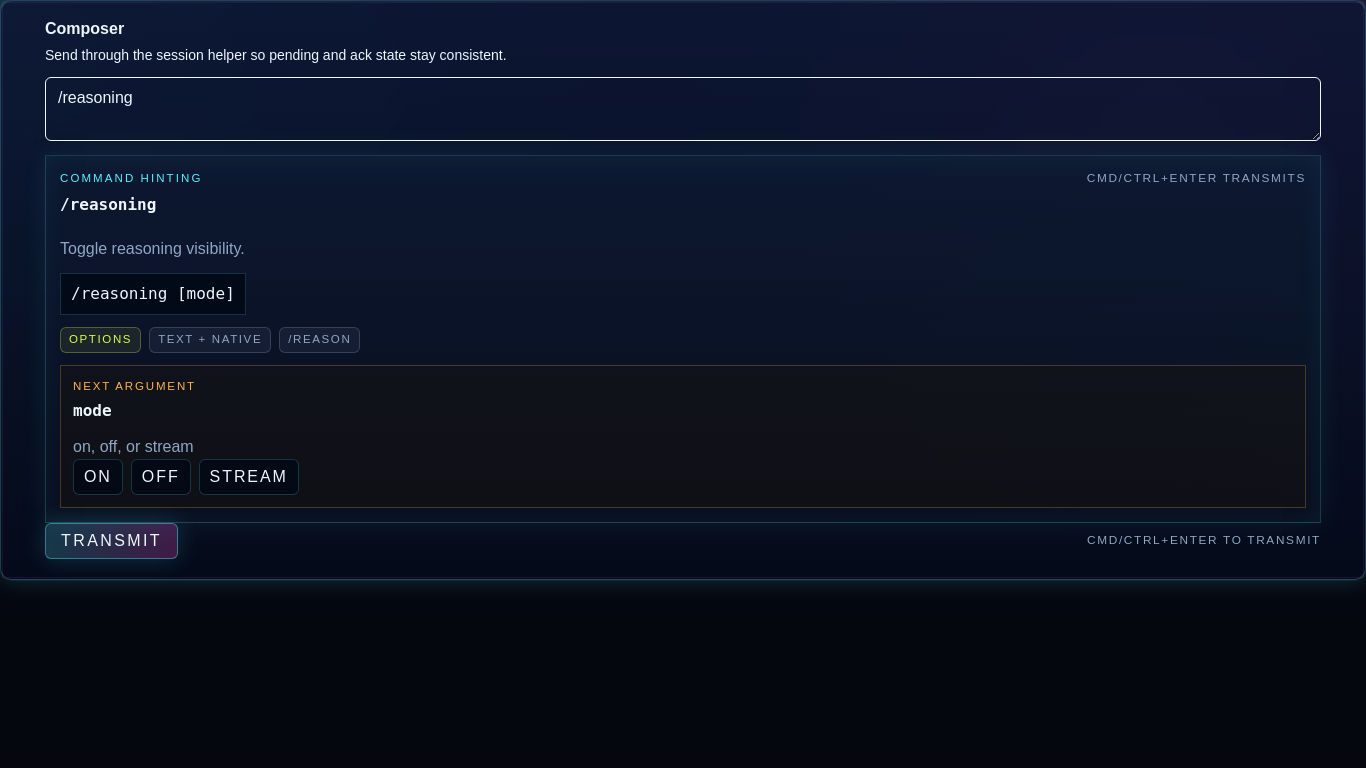
web demo components › shows argument hints and applies choice chips
Check: the text "Next argument" is shown, box [73,380,196,392]
Step 1. Click the button "stream" → [249, 477], box [199,459,299,495]
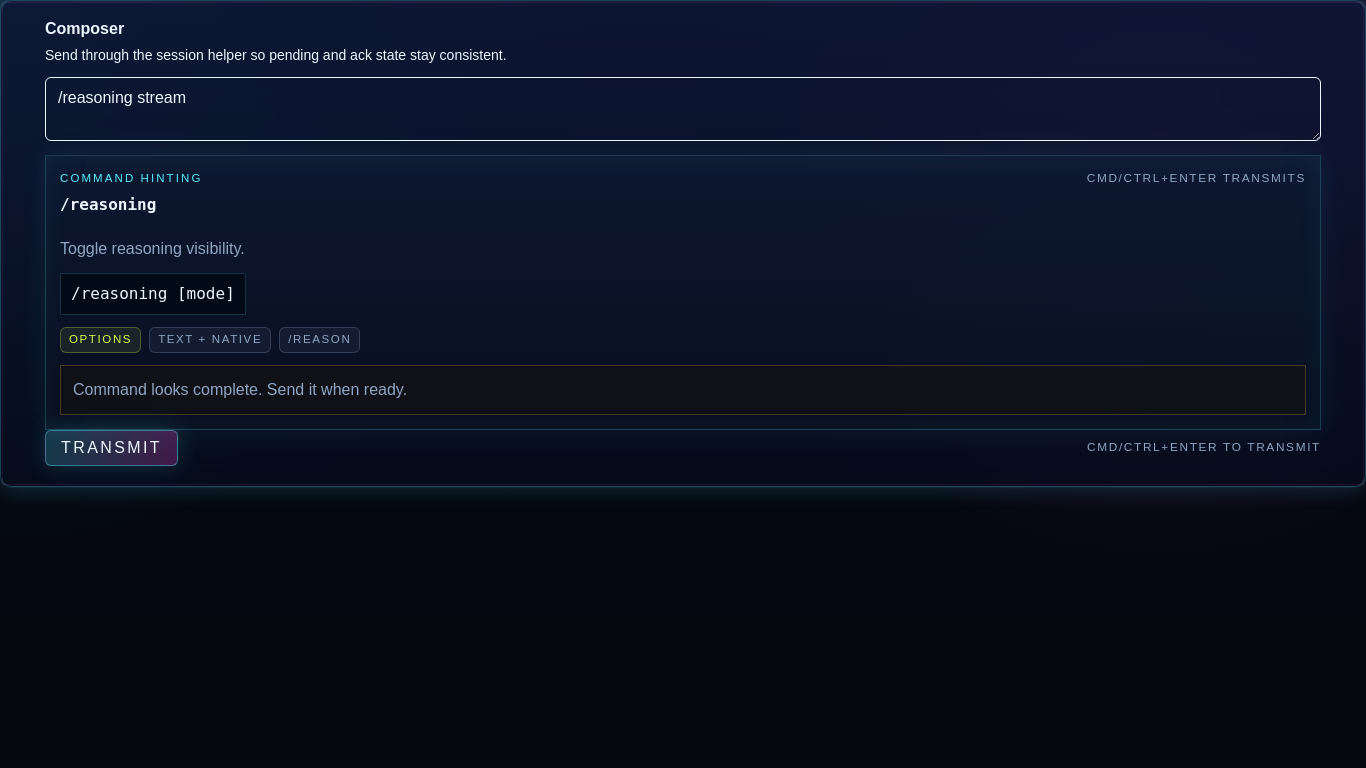
Check: the text box holds "/reasoning stream ", box [45,77,1321,141]
